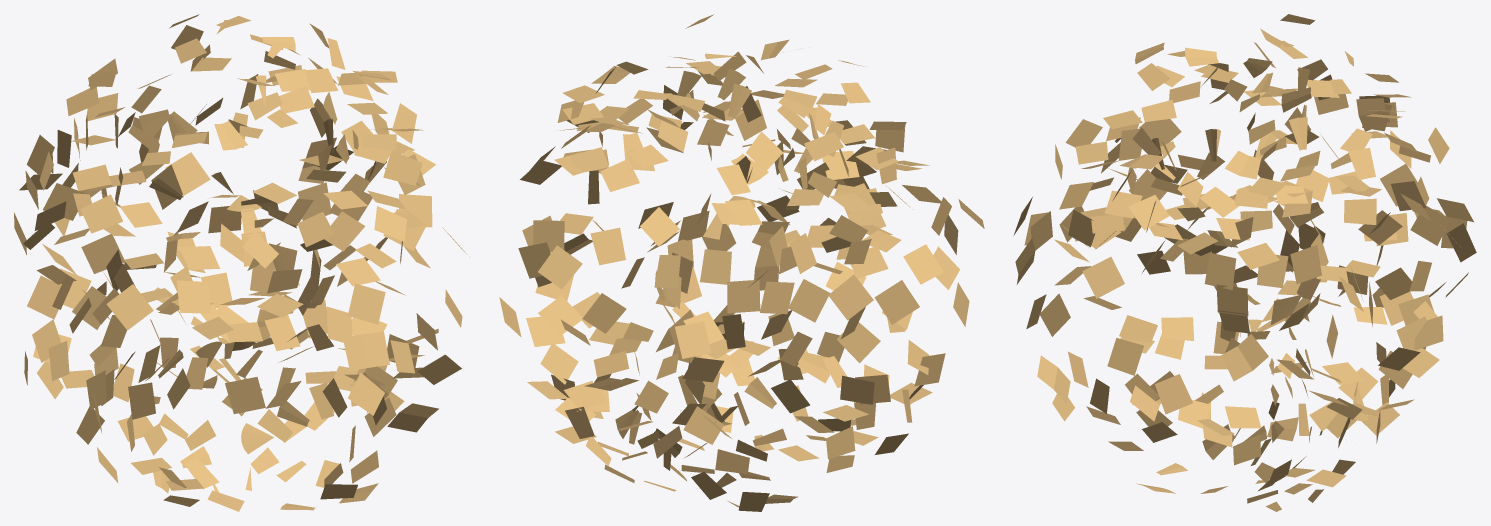
File: planet_particles_2.dae
3 views of the same model, side by side, from view 1: azimuth 30°, elevation 25°; view 2: azimuth 150°, elevation 25°; view 3: azimuth 270°, elevation 25° (orthographic). The views are drawn at different scales.
Parts seen in each view (by area): view 1: planet_particles_1_Sphere_001; view 2: planet_particles_1_Sphere_001; view 3: planet_particles_1_Sphere_001.
Part boxes in pixels (x1,y1,x2,y2): planet_particles_1_Sphere_001: (14, 14, 469, 511); planet_particles_1_Sphere_001: (499, 14, 984, 511); planet_particles_1_Sphere_001: (1013, 14, 1476, 511).
Size of the model in its own units: 31.21 by 34.96 by 36.9.
